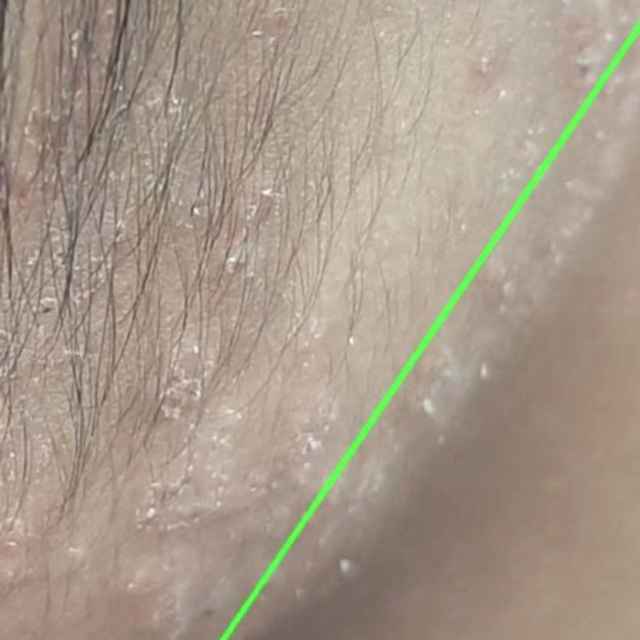Tinea Corporis: (204, 0, 639, 639)
